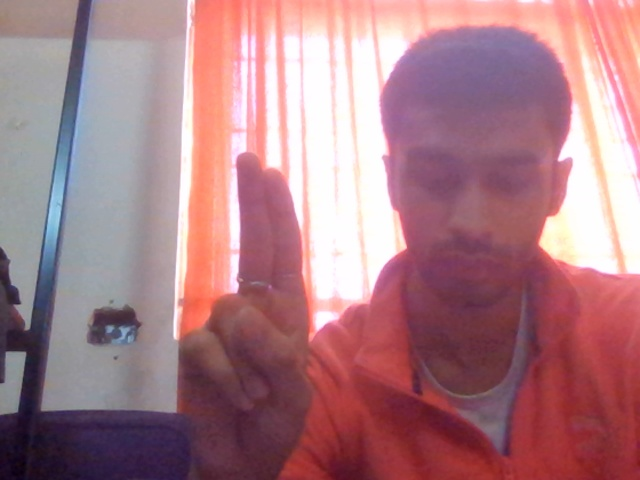U: (123, 122, 366, 480)
